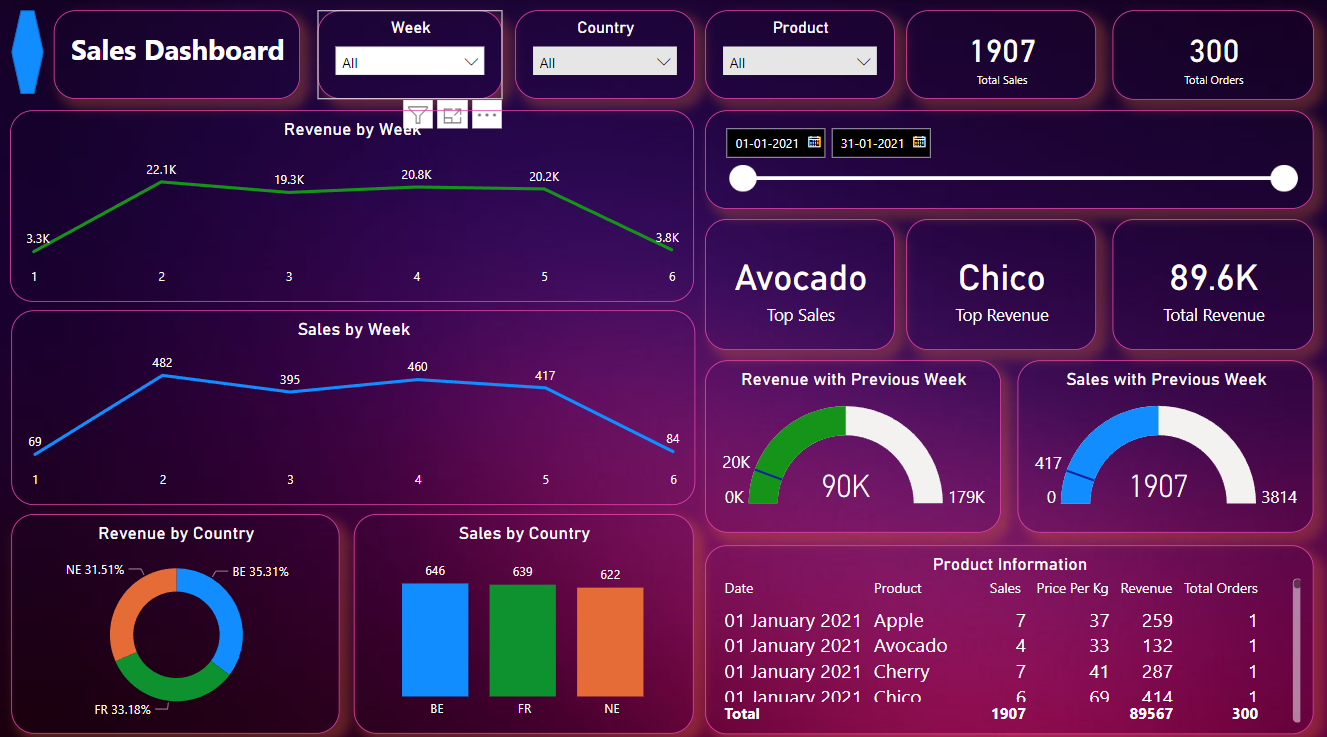

The dashboard page shown, as its layout file describes it:
{"tool":"powerbi","page":{"name":"Page 1","canvas":[1280,720],"ordinal":0},"visuals":[{"type":"donutChart","title":"Revenue by Country","fields":{"Category":["All Sales.country"],"Y":["Sum(All Sales.revenue)"]},"box":[10.9,496.9,317.2,212.3],"z":0},{"type":"slicer","title":"Week","fields":{"Values":["Date.Week"]},"box":[306.3,10.9,178.5,85.6],"z":1000},{"type":"columnChart","title":"Sales by Country","fields":{"Category":["All Sales.country"],"Y":["Sum(All Sales.kg_sold)"]},"box":[341.3,496.9,328,212.3],"z":2000},{"type":"card","fields":{"Values":["Sum(All Sales.revenue)"]},"box":[1073.4,212.3,194.2,126.6],"z":3000},{"type":"card","fields":{"Values":["Sum(All Sales.kg_sold)"]},"box":[874.4,10.9,183.3,85.6],"z":4000},{"type":"slicer","title":"Country","fields":{"Values":["All Sales.country"]},"box":[496.9,10.9,173.7,85.6],"z":5000},{"type":"lineChart","title":"Revenue by Week","fields":{"Y":["Sum(All Sales.revenue)"],"Category":["Date.Week"]},"box":[9.6,107.3,659.7,184.5],"z":6000},{"type":"card","fields":{"Values":["Min(Product Lookup.product_name)"]},"box":[874.4,212.3,183.3,126.6],"z":7000},{"type":"card","fields":{"Values":["Min(Product Lookup.product_name)"]},"box":[680.2,212.3,183.3,126.6],"z":10000},{"type":"textbox","box":[51.9,10.9,237.6,85.6],"z":11000},{"type":"card","fields":{"Values":["CountNonNull(All Sales.order_id)"]},"box":[1073.4,10.9,194.2,86],"z":12000},{"type":"lineChart","title":"Sales by Week","fields":{"Y":["Sum(All Sales.kg_sold)"],"Category":["Date.Week"]},"box":[10.9,300.3,659.7,188.1],"z":13000},{"type":"slicer","title":"Product","fields":{"Values":["All Sales.product_name"]},"box":[680.2,10.9,183.3,85.6],"z":14000},{"type":"gauge","title":"Revenue with Previous Week","fields":{"Y":["Sum(All Sales.revenue)"],"TargetValue":["All Sales.PreviousWeekRevenue"]},"box":[680.2,348.5,285.8,166.4],"z":15000},{"type":"gauge","title":"Sales with Previous Week","fields":{"Y":["Sum(All Sales.kg_sold)"],"TargetValue":["All Sales.PreviousWeekSales"]},"box":[981.7,348.5,285.8,166.4],"z":16000},{"type":"shape","box":[10.9,10.9,31.4,80.8],"z":17000},{"type":"tableEx","title":"Product Information","fields":{"Values":["All Sales.date","All Sales.product_name","Sum(All Sales.kg_sold)","All Sales.price_per_kg","Sum(All Sales.newrevenue)","CountNonNull(All Sales.order_id)"]},"box":[680.2,527,587.3,182.1],"z":18000},{"type":"slicer","fields":{"Values":["Date.Date"]},"box":[680.2,107.3,587.3,95.3],"z":19000}]}

Visuals, with their boxes in screenshot pixels (x1, y1, x2, y2), scaled from the page's 1280x720 canvas onto the 1327x737 screenshot:
"Revenue by Country" donutChart: crop(11, 509, 340, 726)
"Week" slicer: crop(318, 11, 503, 99)
"Sales by Country" columnChart: crop(354, 509, 694, 726)
card - Sum(All Sales.revenue): crop(1113, 217, 1314, 347)
card - Sum(All Sales.kg_sold): crop(907, 11, 1097, 99)
"Country" slicer: crop(515, 11, 695, 99)
"Revenue by Week" lineChart: crop(10, 110, 694, 299)
card - Min(Product Lookup.product_name): crop(907, 217, 1097, 347)
card - Min(Product Lookup.product_name): crop(705, 217, 895, 347)
textbox: crop(54, 11, 300, 99)
card - CountNonNull(All Sales.order_id): crop(1113, 11, 1314, 99)
"Sales by Week" lineChart: crop(11, 307, 695, 500)
"Product" slicer: crop(705, 11, 895, 99)
"Revenue with Previous Week" gauge: crop(705, 357, 1001, 527)
"Sales with Previous Week" gauge: crop(1018, 357, 1314, 527)
shape: crop(11, 11, 44, 94)
"Product Information" tableEx: crop(705, 539, 1314, 726)
slicer - Date.Date: crop(705, 110, 1314, 207)
